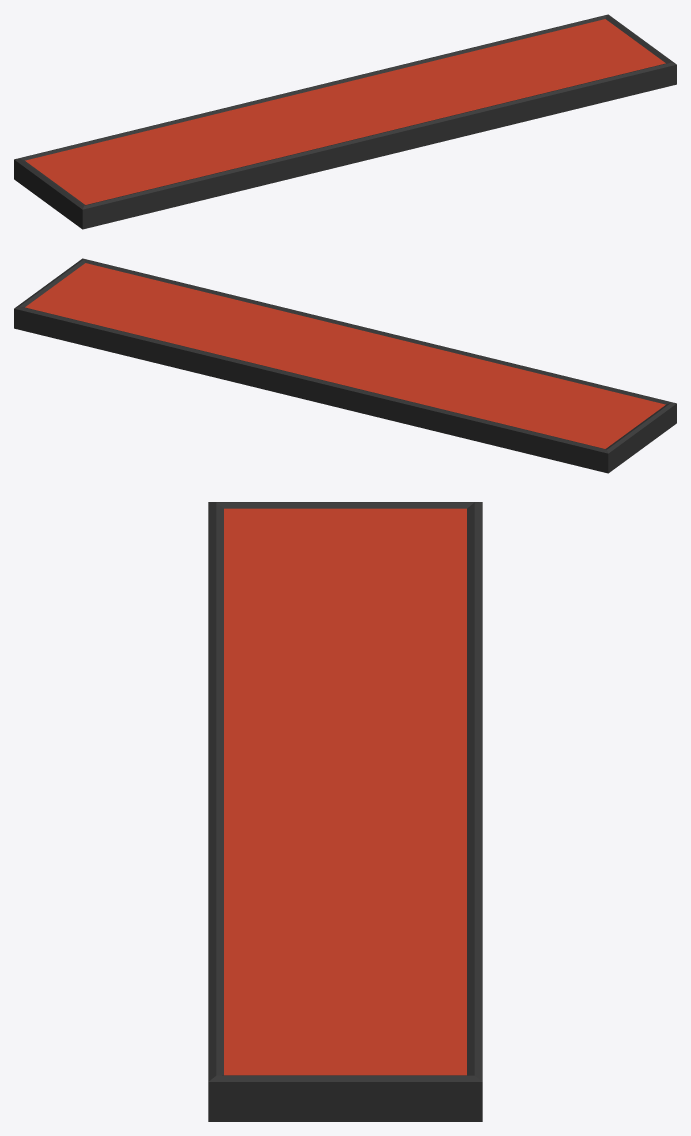
Rendered from boost_panel.obj.
3 views of the same model, one above another, from view 1: azimuth 30°, elevation 25°; view 2: azimuth 150°, elevation 25°; view 3: azimuth 270°, elevation 25° (orthographic). The views are drawn at different scales.
Parts seen in each view (by area): view 1: Plane.003; view 2: Plane.003; view 3: Plane.003.
Boxes of the visible parts, left/top/right/bottom form: Plane.003: left=14, top=14, right=676, bottom=229; Plane.003: left=14, top=258, right=676, bottom=473; Plane.003: left=208, top=502, right=482, bottom=1121.
Size of the model in its own units: 20 by 0.6899 by 4.
